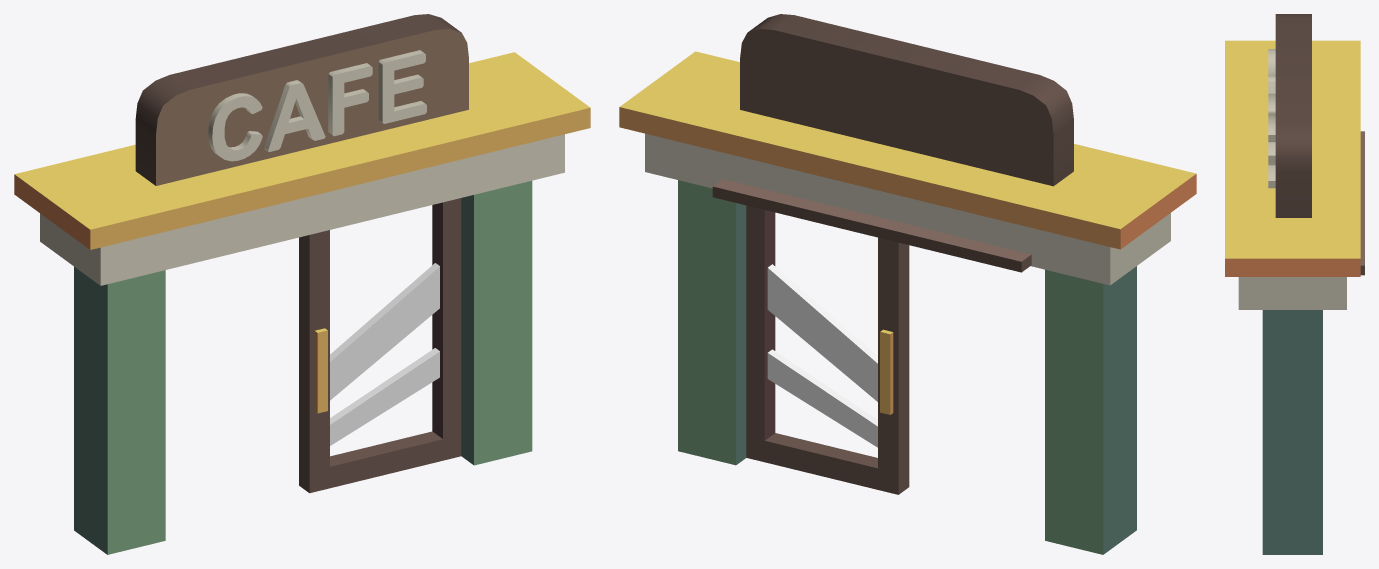
Rendered from Entrance_2.fbx.
3 renders of one model, left to right at view 1: azimuth 30°, elevation 25°; view 2: azimuth 150°, elevation 25°; view 3: azimuth 270°, elevation 25°, orthographic. The views are drawn at different scales.
Parts seen in each view (by area): view 1: Entrance, Door; view 2: Entrance, Door; view 3: Entrance.
Boxes of the visible parts, x1,y1,x2,y2 form: Entrance: [14, 14, 590, 554]; Door: [299, 198, 461, 493]; Entrance: [619, 14, 1196, 554]; Door: [746, 205, 909, 494]; Entrance: [1225, 14, 1364, 554].
Bounding box in the file's own units: 192 × 160 × 51.96.
